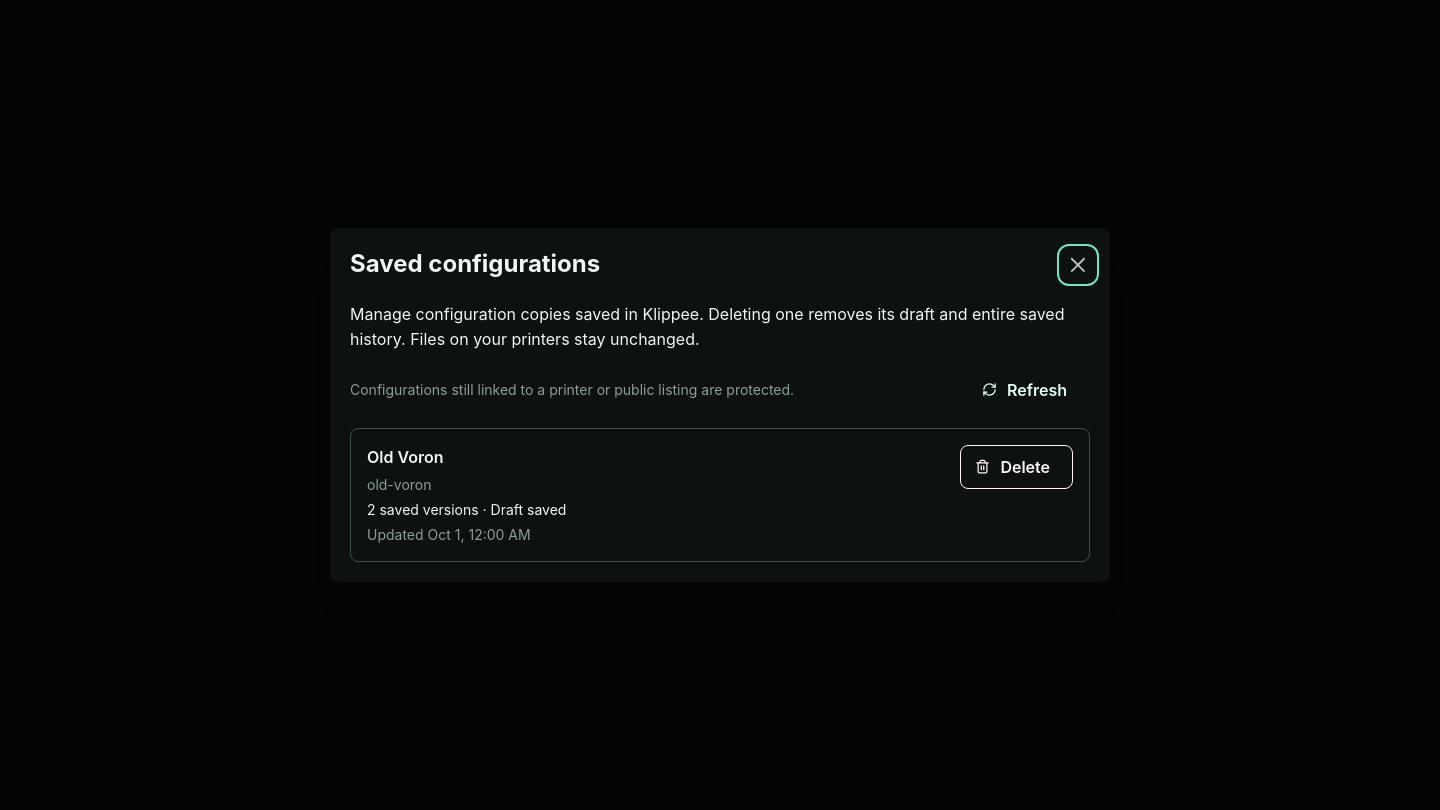
Test: saved configurations › deletes only after confirmation and sends no printer operations
The image size is (1440, 810).
Step 1. Click the button with aria-label "Delete Old Voron" → [1016, 467], box [960,445,1073,489]
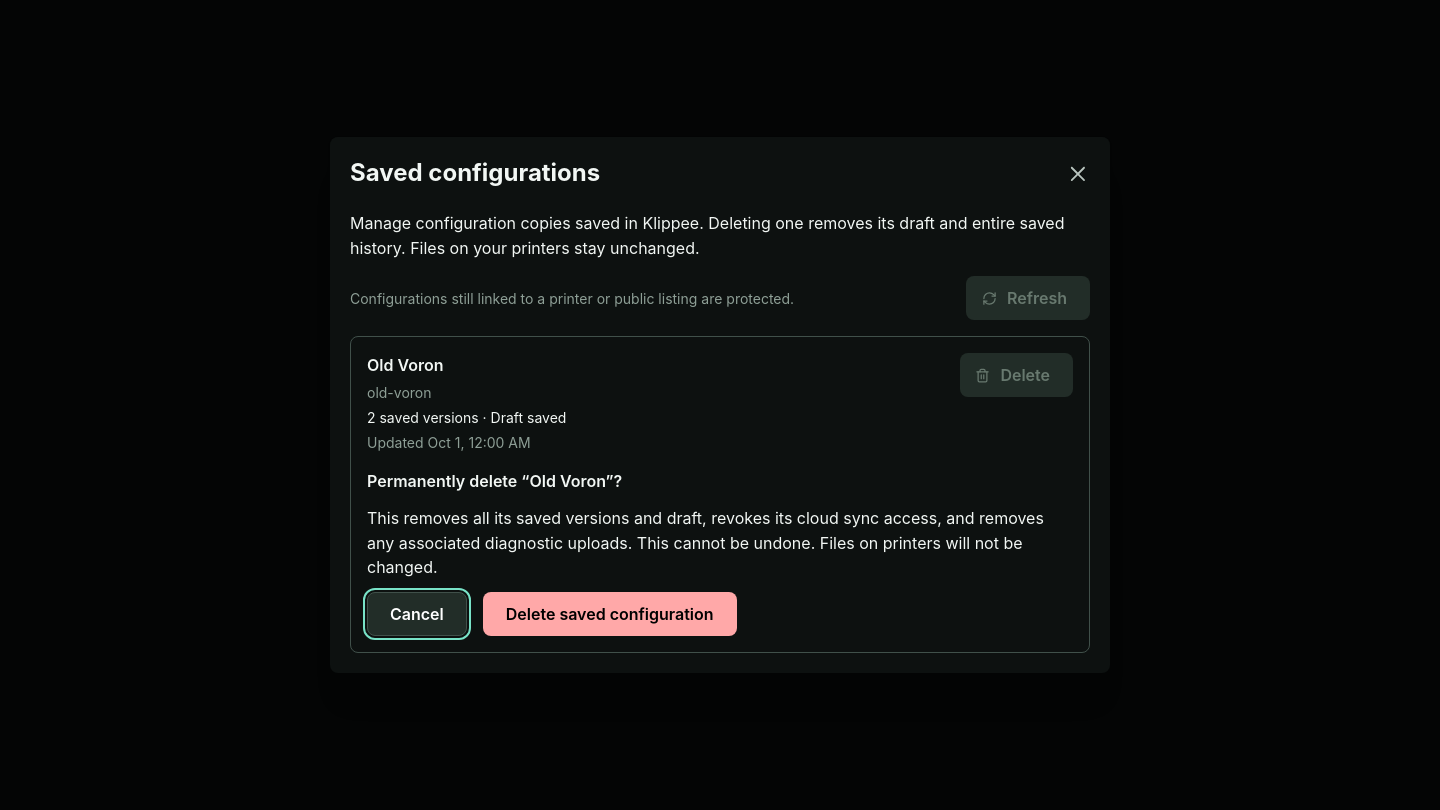
Step 2. Click the button "Delete saved configuration" → [610, 614], box [483,592,736,636]
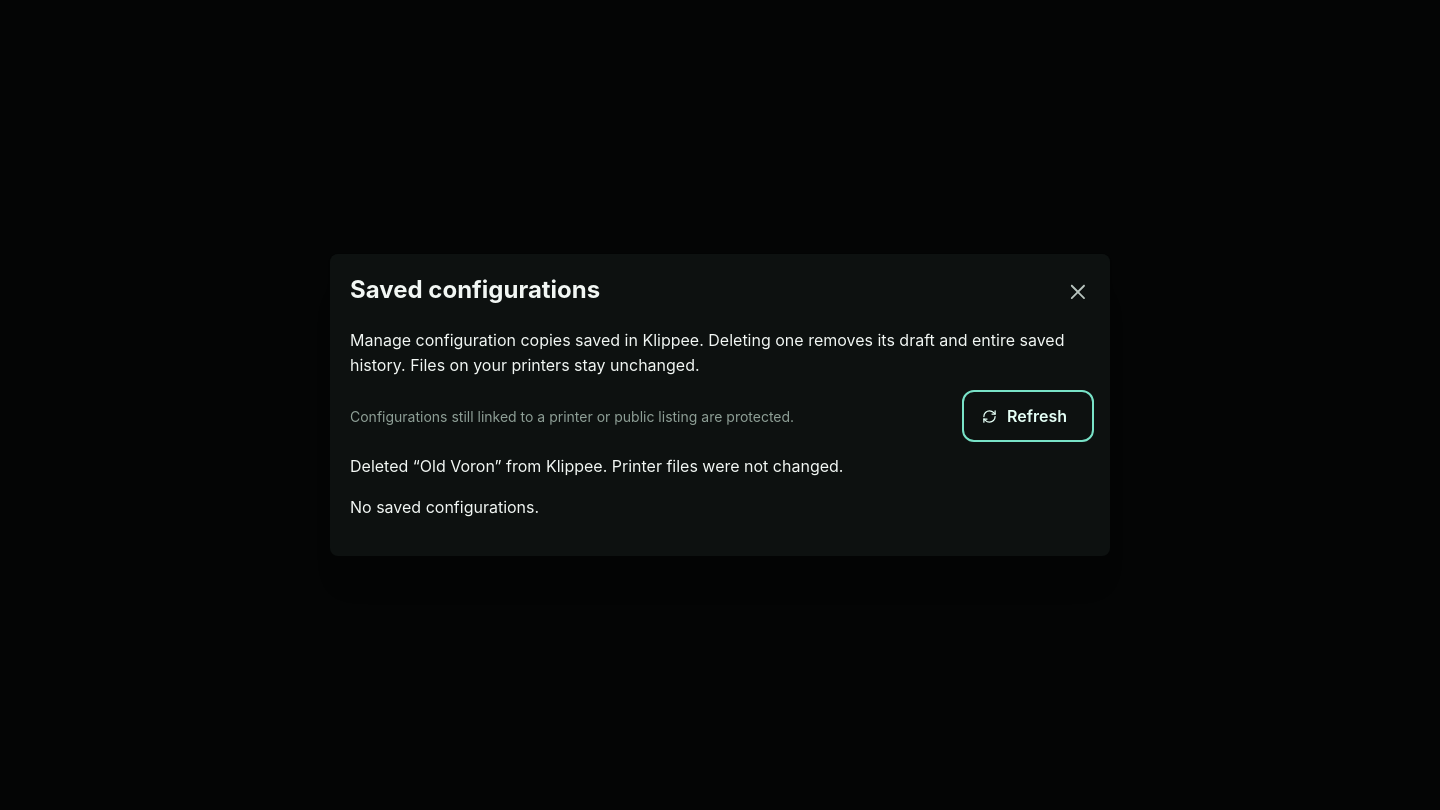
expect the text "Deleted “Old Voron” from Klippee. Printer files were not changed." is shown: met, box [350,456,843,476]
expect the text "No saved configurations." is shown: met, box [350,497,539,517]
